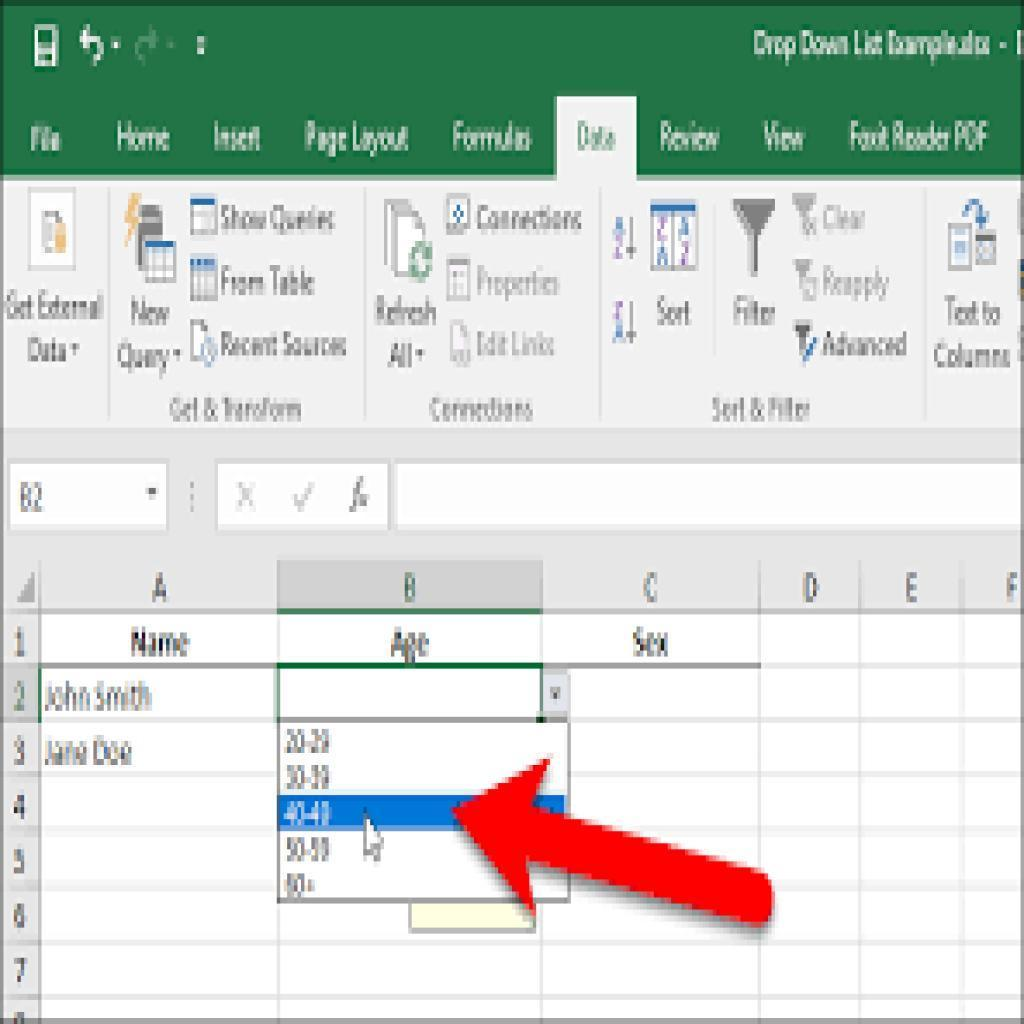button: (558, 97, 638, 182)
dropdown: (7, 461, 169, 529)
icon: (377, 194, 441, 288), (121, 194, 181, 291), (942, 190, 1005, 276), (647, 197, 703, 275), (732, 195, 780, 281), (31, 185, 76, 268), (608, 288, 643, 353), (441, 252, 479, 309), (185, 315, 222, 372), (788, 254, 825, 309), (27, 21, 65, 74), (189, 250, 222, 306), (788, 188, 823, 240), (610, 208, 640, 268), (75, 19, 109, 71), (447, 318, 478, 375), (188, 189, 222, 240), (791, 317, 823, 370), (130, 20, 161, 67), (442, 192, 475, 236), (284, 474, 320, 513), (230, 477, 263, 515), (345, 477, 375, 515)
input: (398, 463, 1024, 528)
table: (1, 536, 1024, 1024)
